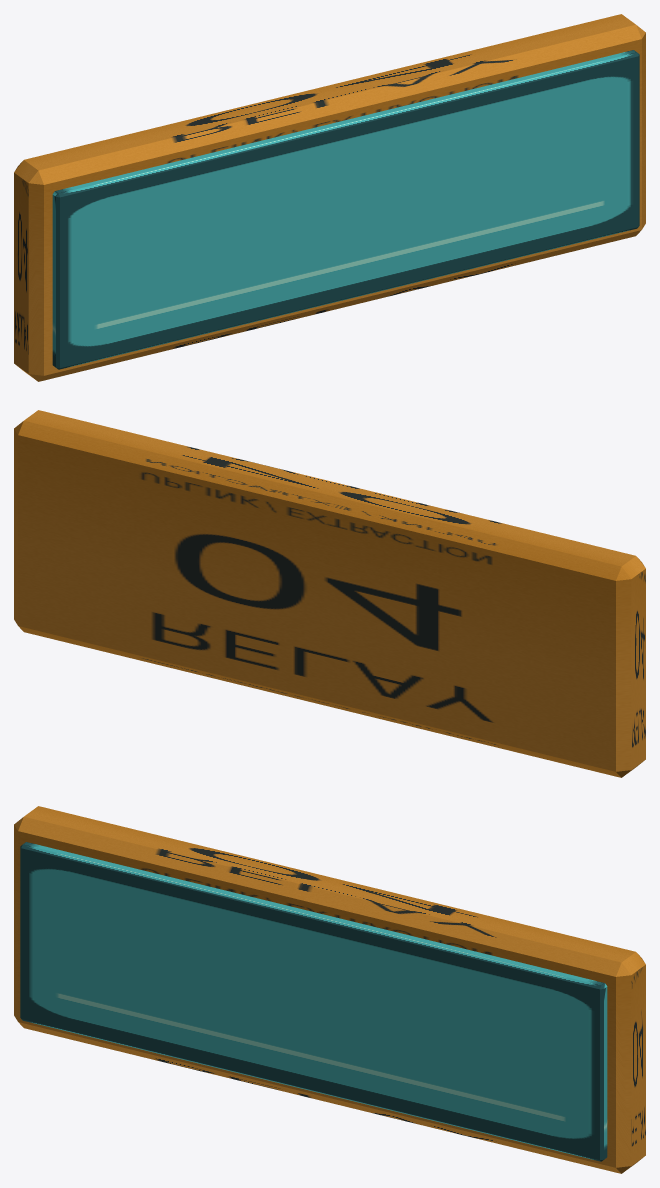
The model's file is sign_cargo_LOD1.obj.
3 views of the same model, one above another, from view 1: azimuth 30°, elevation 25°; view 2: azimuth 150°, elevation 25°; view 3: azimuth 330°, elevation 25° (orthographic).
Visible parts, largest first — view 1: L02_sign_cargo_LOD1; view 2: L02_sign_cargo_LOD1; view 3: L02_sign_cargo_LOD1.
Boxes of the visible parts, <box> form: L02_sign_cargo_LOD1: <box>14,14,645,381</box>; L02_sign_cargo_LOD1: <box>14,410,645,777</box>; L02_sign_cargo_LOD1: <box>14,806,645,1173</box>.
Size of the model in its own units: 2.2 by 0.72 by 0.2.
1 material, 1 textured.
